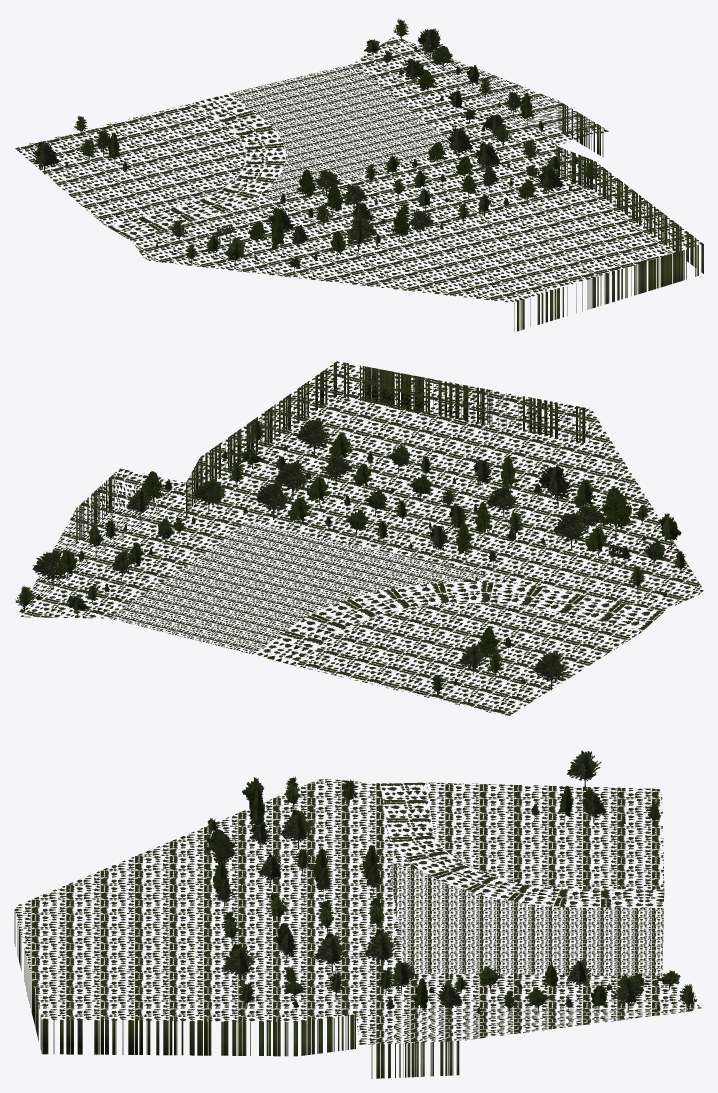
The model's file is redring1.glb.
3 renders of one model, top to bottom at view 1: azimuth 30°, elevation 25°; view 2: azimuth 150°, elevation 25°; view 3: azimuth 270°, elevation 25°, orthographic. The views are drawn at different scales.
Visible parts, largest first — view 1: redring1; view 2: redring1; view 3: redring1.
Part boxes in pixels (<box>): redring1: <box>15,18,703,331</box>; redring1: <box>15,361,703,715</box>; redring1: <box>14,750,701,1078</box>.
Size of the model in its own units: 219 by 32.04 by 240.
1 material, 1 textured.
